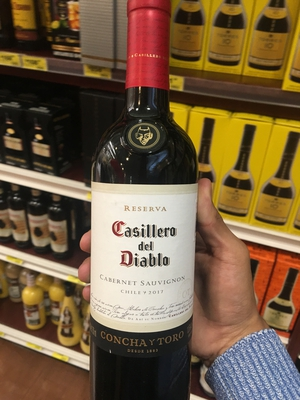casillero del diablo cabernet sauvignon: (78, 5, 209, 400)
